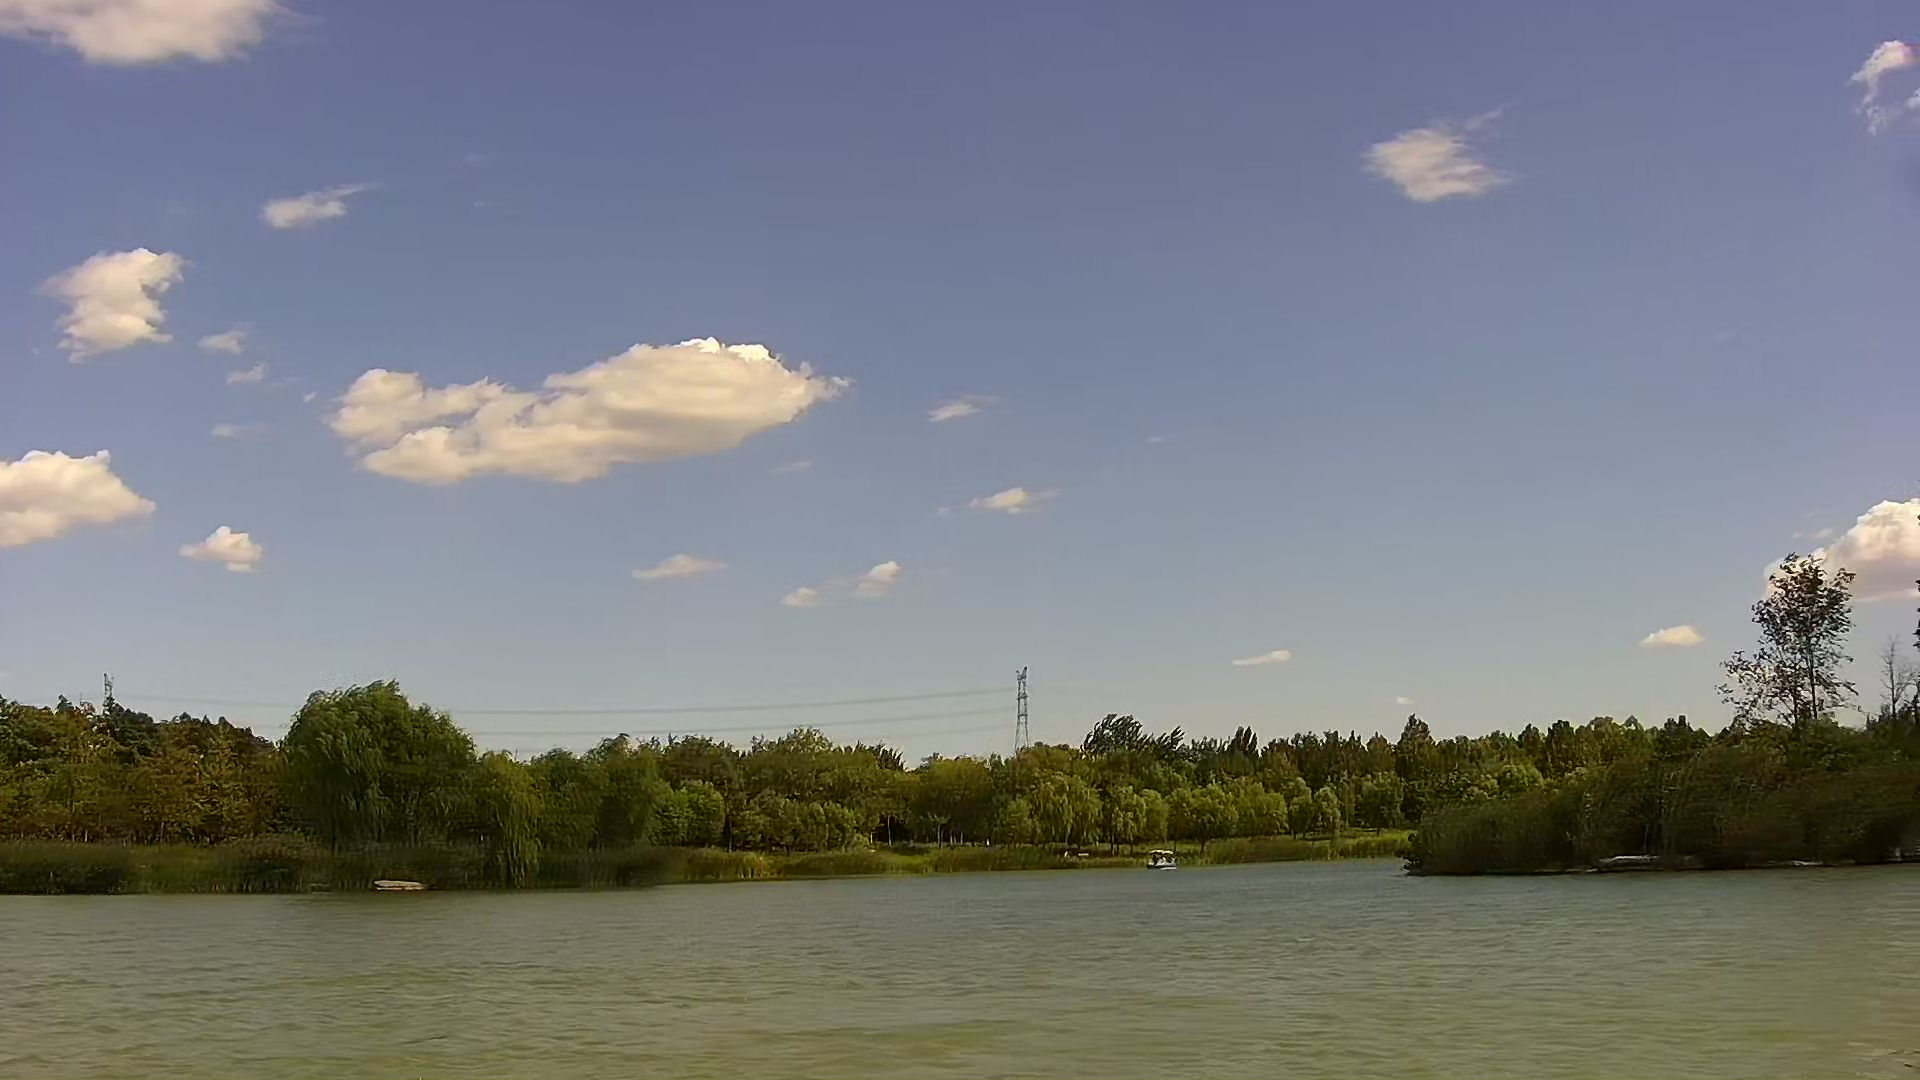boat: (1147, 847, 1174, 876)
rock: (1601, 855, 1683, 874), (377, 877, 419, 891)
